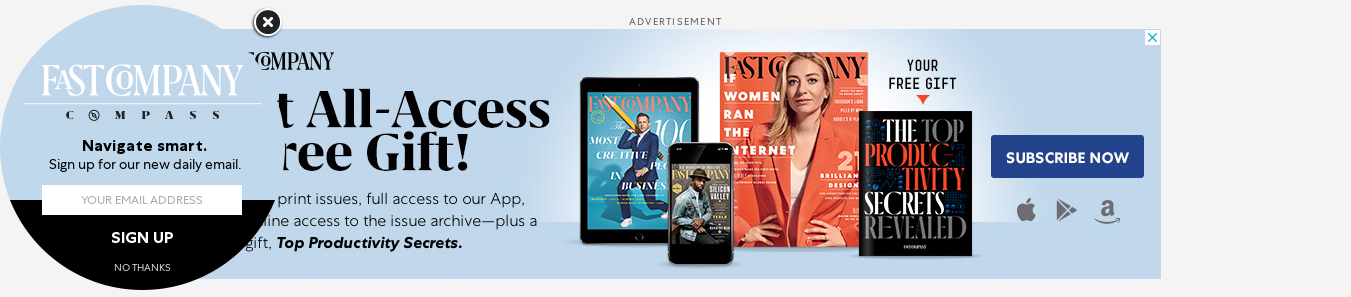fake_button: (980, 123, 1159, 188)
